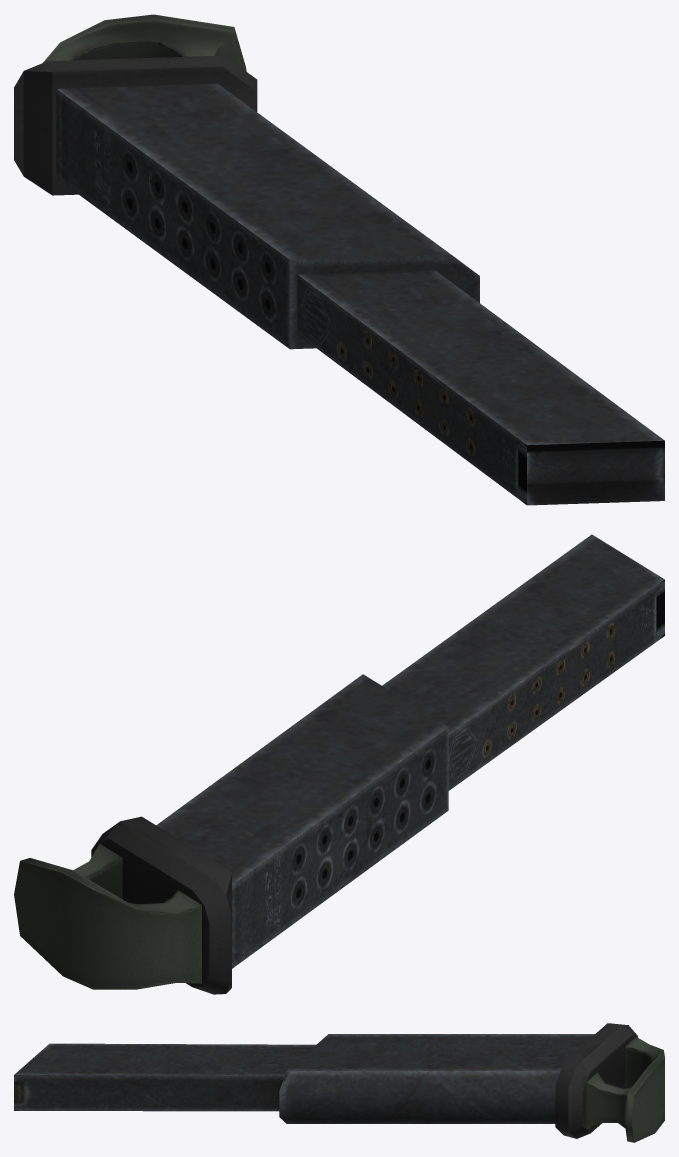
Rendered from t6_attach_fastmag_vector_world_LOD0.obj.
3 renders of one model, top to bottom at view 1: azimuth 30°, elevation 25°; view 2: azimuth 150°, elevation 25°; view 3: azimuth 270°, elevation 25°, orthographic. The views are drawn at different scales.
Parts seen in each view (by area): view 1: mtl_t6_wpn_smg_vector_camo4, mtl_t6_attach_fastmag; view 2: mtl_t6_wpn_smg_vector_camo4, mtl_t6_attach_fastmag; view 3: mtl_t6_wpn_smg_vector_camo4, mtl_t6_attach_fastmag.
Part boxes in pixels (<box>): mtl_t6_wpn_smg_vector_camo4: <box>56,83,664,505</box>; mtl_t6_attach_fastmag: <box>14,14,257,195</box>; mtl_t6_wpn_smg_vector_camo4: <box>156,534,664,968</box>; mtl_t6_attach_fastmag: <box>14,816,231,994</box>; mtl_t6_wpn_smg_vector_camo4: <box>14,1034,594,1123</box>; mtl_t6_attach_fastmag: <box>555,1023,664,1142</box>.
Bounding box in the file's own units: 5.92 × 3.01 × 24.17.
